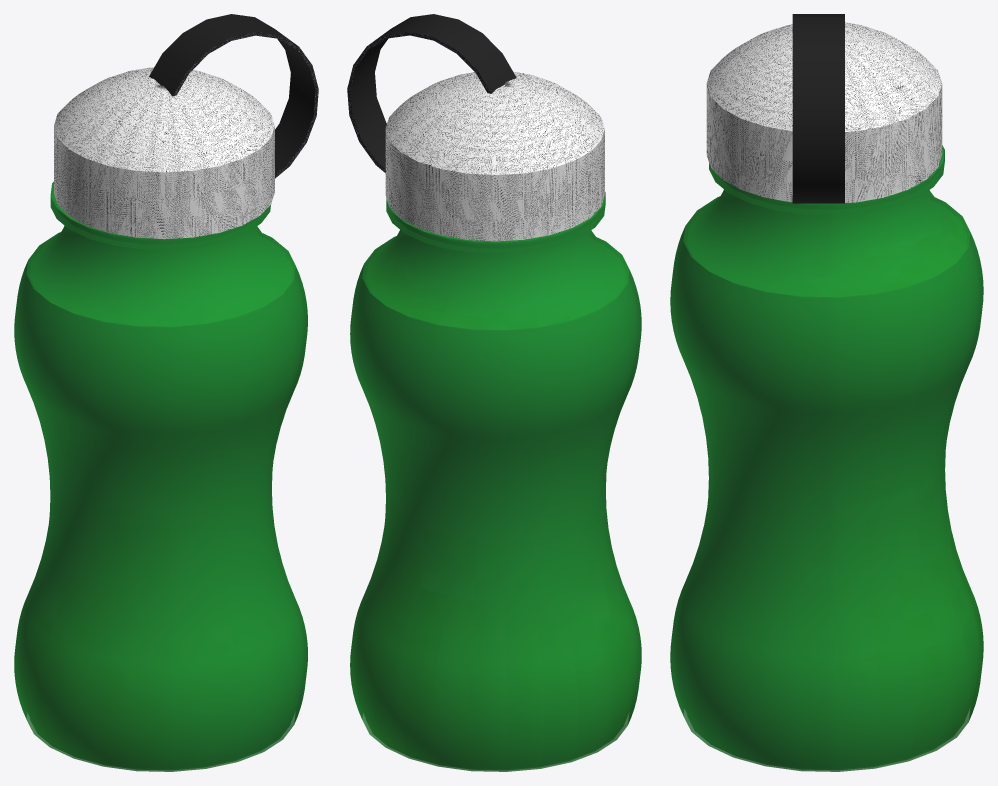
3 views of the same model, side by side, from view 1: azimuth 30°, elevation 25°; view 2: azimuth 150°, elevation 25°; view 3: azimuth 270°, elevation 25° (orthographic). The views are drawn at different scales.
Visible parts, largest first — view 1: bottle (×4), cap (×3); view 2: bottle (×4), cap (×4); view 3: bottle (×4), cap (×2).
Part boxes in pixels (box(x1,y1,x2,y2)): bottle (×4): box(14, 181, 307, 771); cap (×3): box(54, 14, 318, 239); bottle (×4): box(350, 192, 641, 771); cap (×4): box(347, 14, 604, 241); bottle (×4): box(670, 145, 983, 771); cap (×2): box(706, 14, 942, 203).
Bounding box in the file's own units: 3.16 × 2.99 × 7.6.
4 materials, 1 textured.
